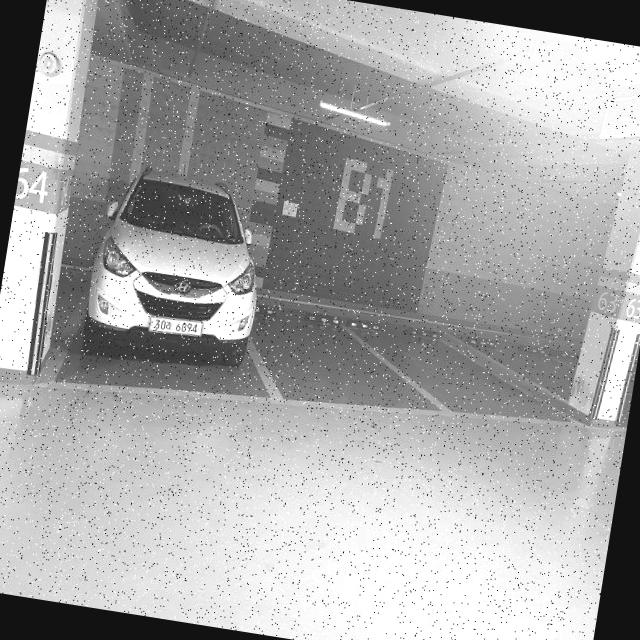car: (48, 142, 303, 415)
free: (250, 305, 404, 430), (383, 314, 509, 435)
